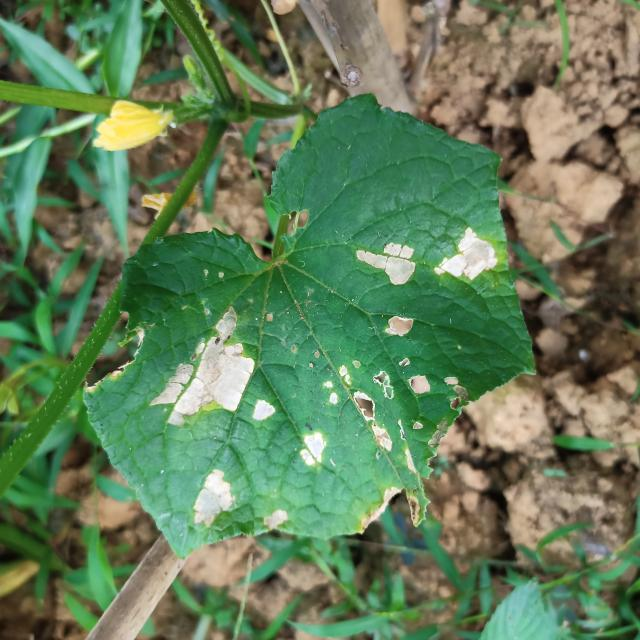disease_cucumber: (158, 298, 286, 433), (320, 362, 408, 454), (433, 226, 500, 302), (348, 232, 421, 292), (179, 465, 240, 530), (296, 424, 335, 475), (255, 508, 288, 532)
